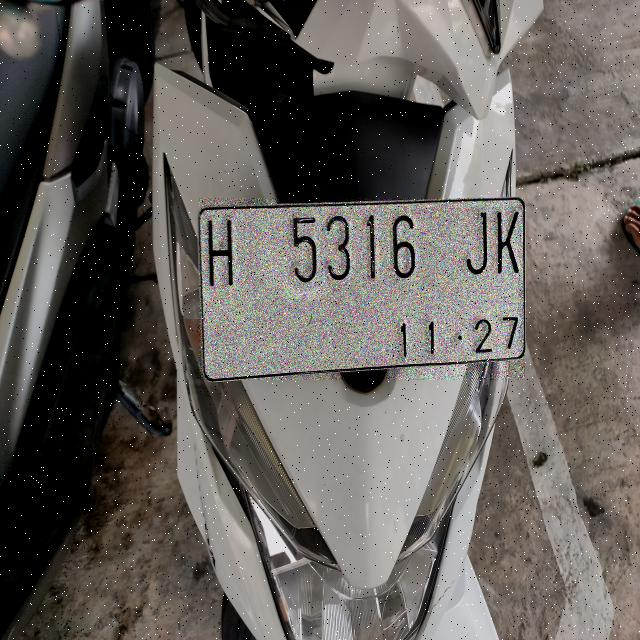plate: (200, 199, 524, 379)
